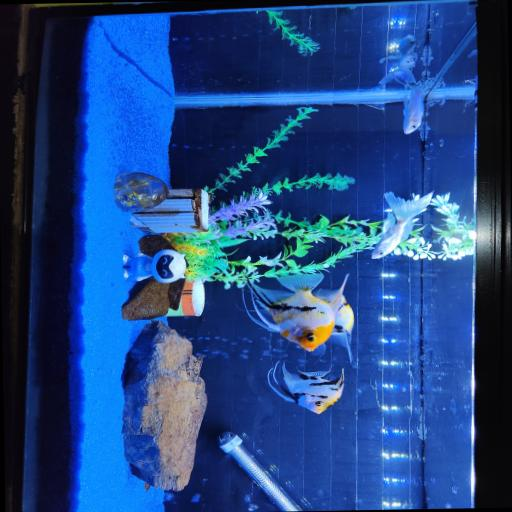Fish: (246, 274, 342, 353), (371, 192, 432, 258), (267, 364, 343, 413), (327, 295, 353, 362), (379, 53, 416, 84), (402, 84, 423, 133), (379, 35, 415, 63)
